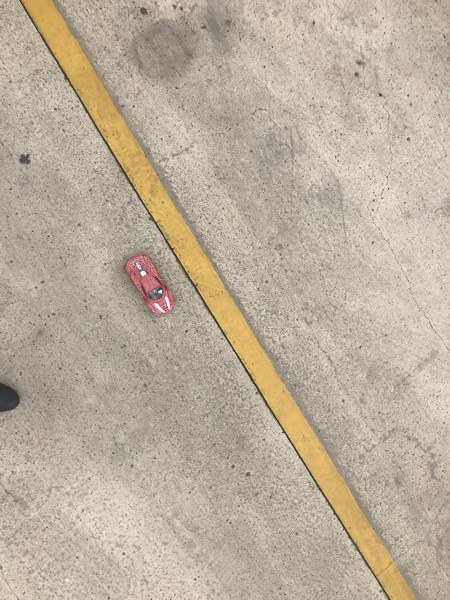RC: (122, 253, 175, 318)
